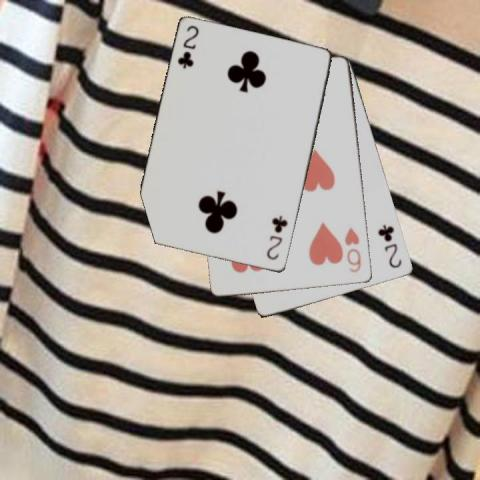2c: (376, 221, 404, 270), (264, 213, 290, 262), (175, 22, 200, 70)
6h: (342, 225, 363, 274)
